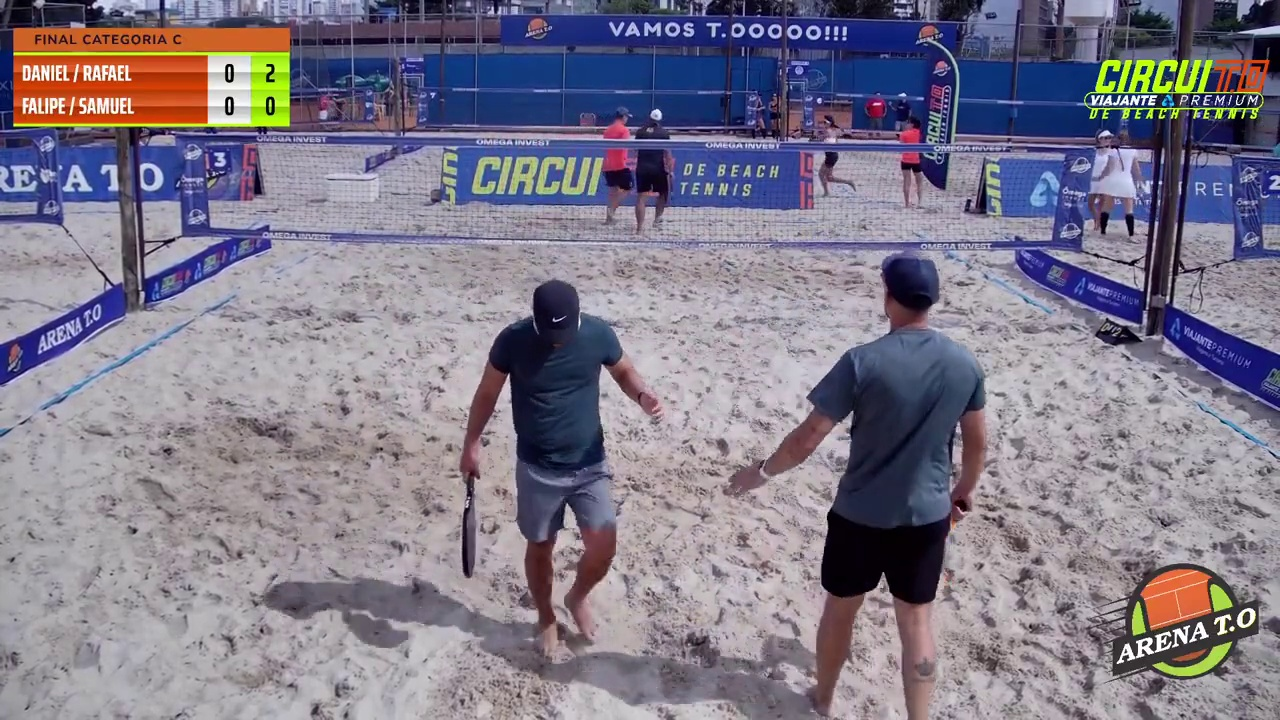court_line: (643, 0, 805, 353)
